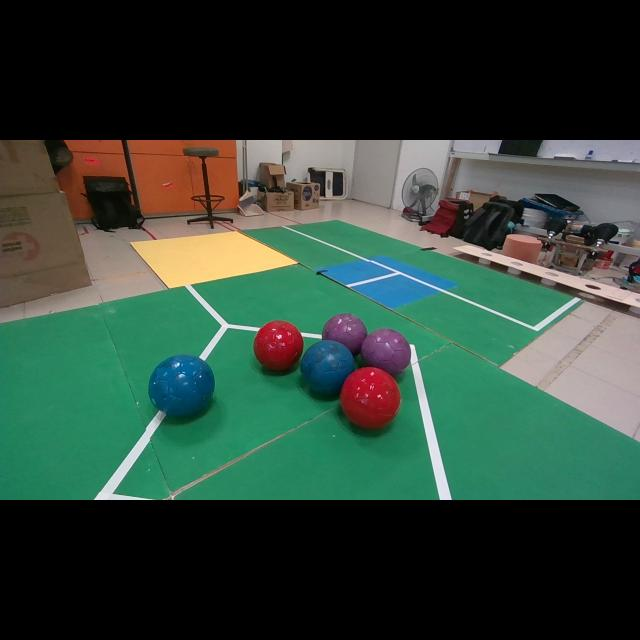B: (149, 355, 215, 416), (301, 340, 355, 395)
P: (360, 329, 410, 376), (321, 314, 368, 356)
R: (340, 366, 401, 429), (254, 320, 304, 371)
